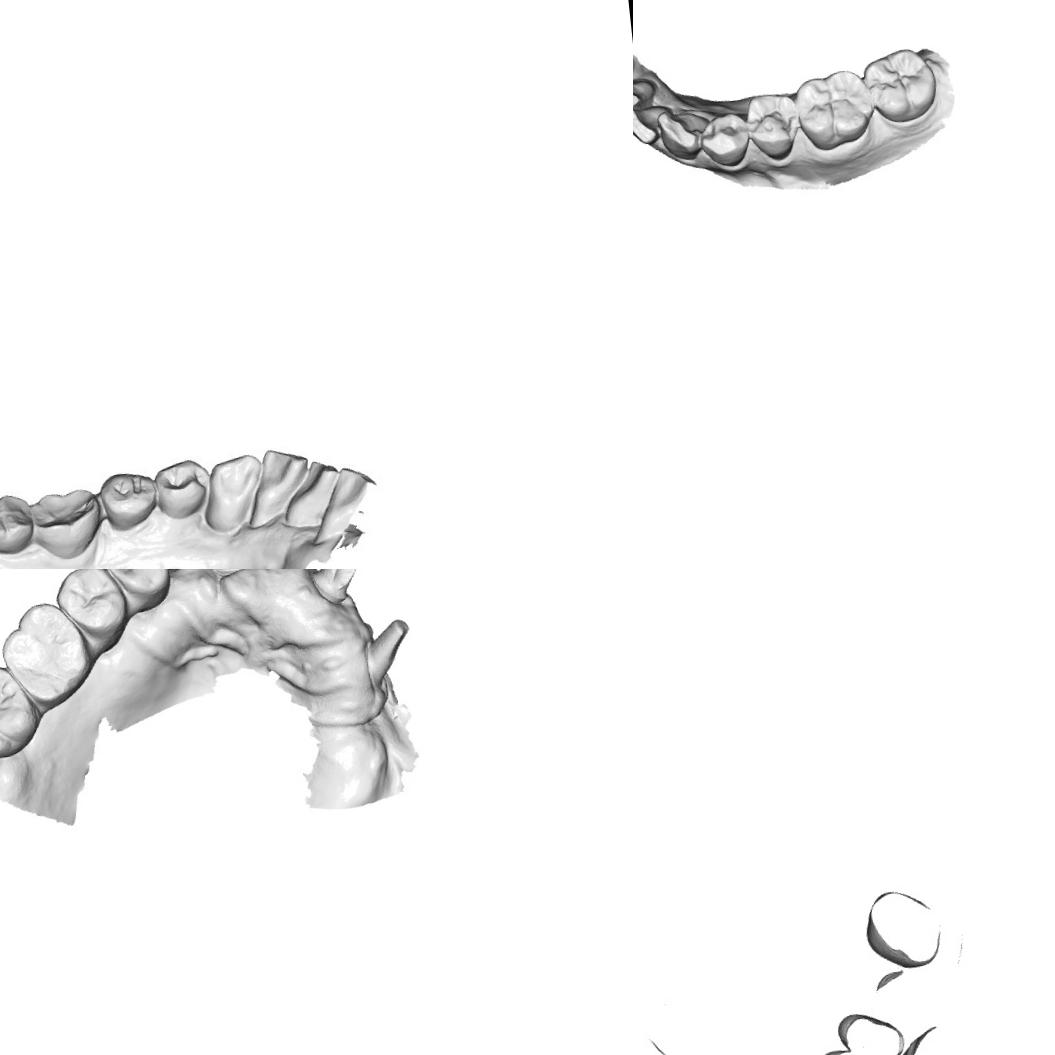abutment: (356, 616, 420, 690), (304, 569, 367, 608)
canine: (198, 447, 272, 538), (652, 104, 717, 164)
incisor: (317, 464, 390, 548), (242, 440, 308, 522), (280, 449, 342, 534), (633, 102, 677, 148), (633, 70, 659, 113)
molar: (0, 596, 97, 711), (789, 66, 879, 154), (860, 45, 940, 127), (27, 484, 101, 565), (0, 659, 46, 764), (0, 485, 37, 560)
premolar: (51, 569, 131, 644), (742, 90, 806, 166), (96, 462, 160, 532), (153, 455, 212, 519), (694, 110, 753, 171), (97, 569, 175, 607)
